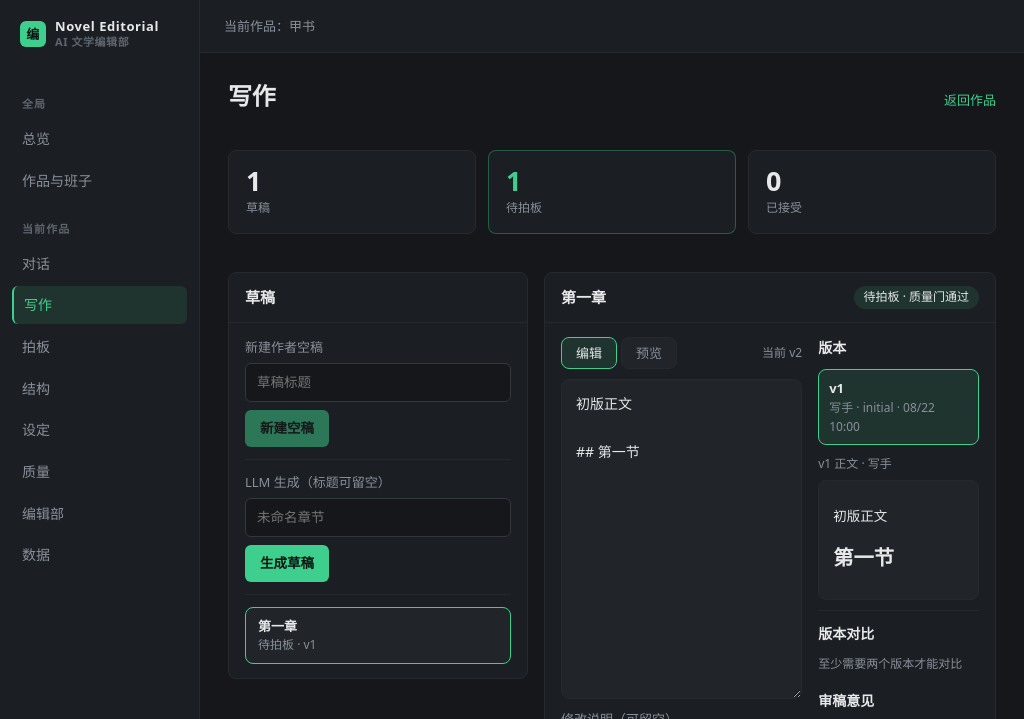
it: writer page › sends a custom save reason when one is typed
Expected: the heading "第一章" is shown, top-left (561, 286), bottom-right (606, 309)
Replace the text in the text box with test id "editor-textarea" with "微调后的正文": coordinates (682, 540) top-left (561, 380), bottom-right (802, 700)
(page scrolled)
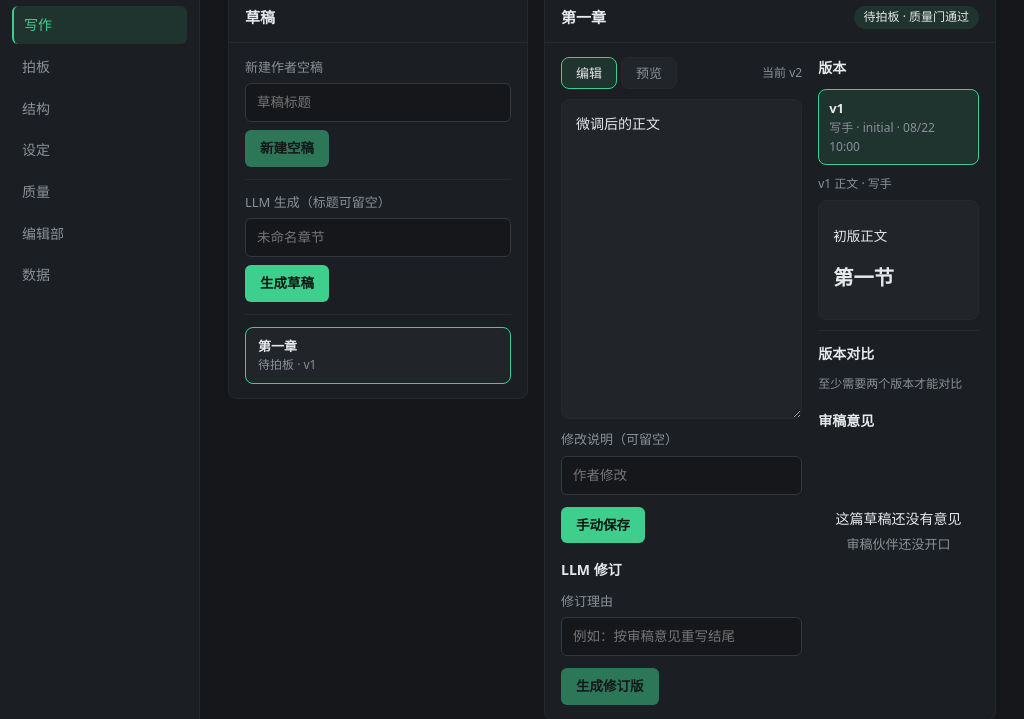
In the field with test id "save-reason-input": coordinates (682, 475) top-left (561, 456), bottom-right (802, 494), type "微调结尾"
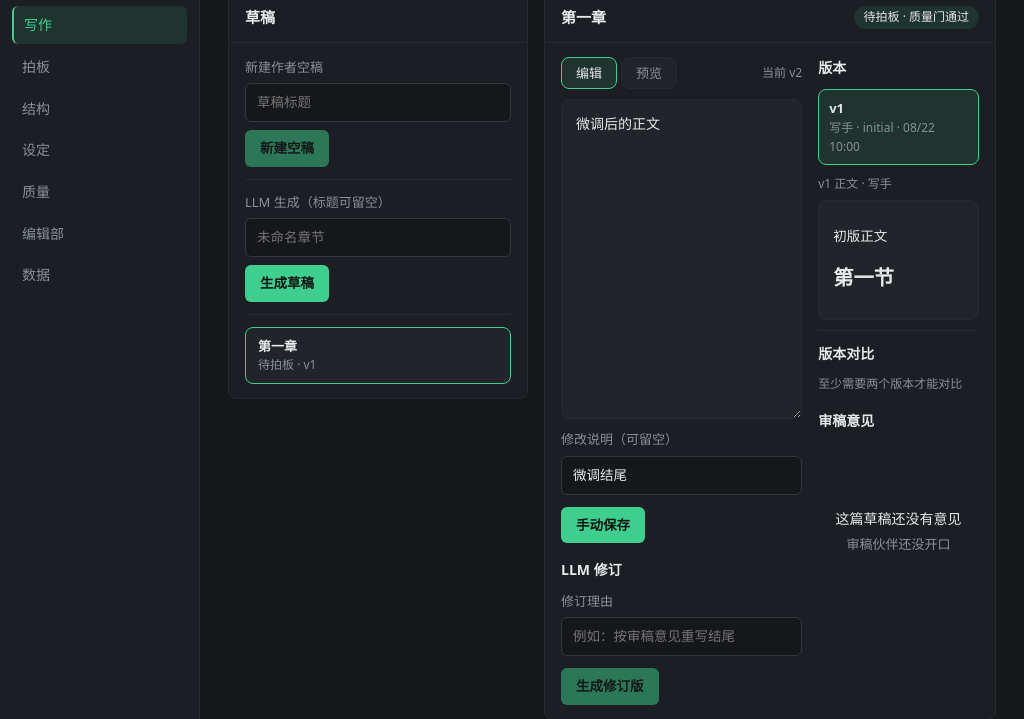
Click the button with test id "save-content-button": coordinates (603, 525) top-left (561, 506), bottom-right (645, 543)
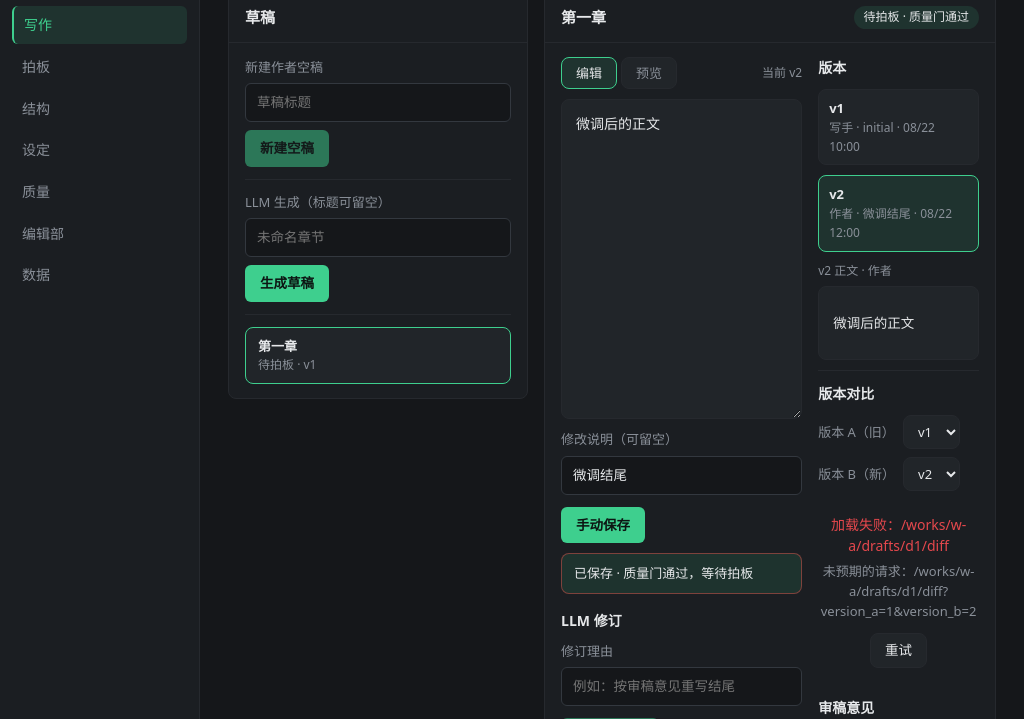
Expected: the message "已保存 · 质量门通过，等待拍板" is shown, top-left (561, 554), bottom-right (802, 594)
